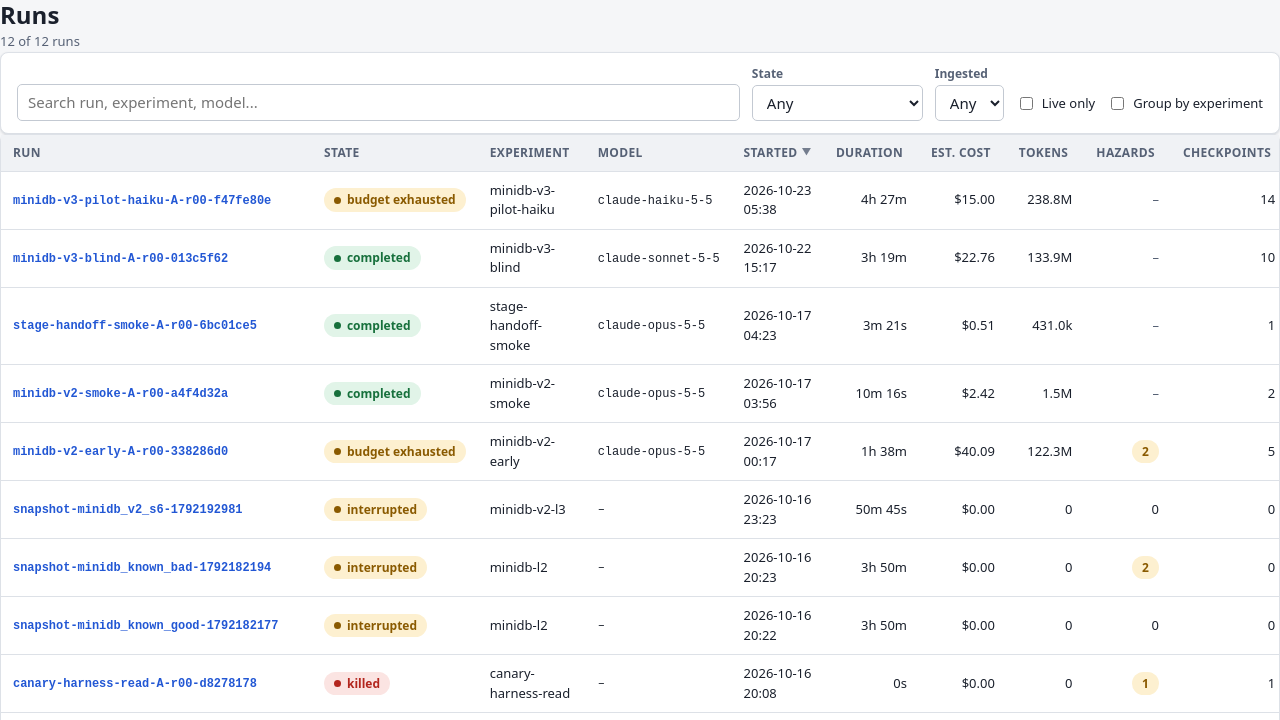
Scenario: RunsView › groups by experiment
Expected: the text "12 of 12 runs" is shown, left=0, top=32, right=80, bottom=52
Step 1. Click the checkbox labelled "Group by experiment" → coordinates (1118, 104), box left=1111, top=97, right=1124, bottom=110
(page scrolled)
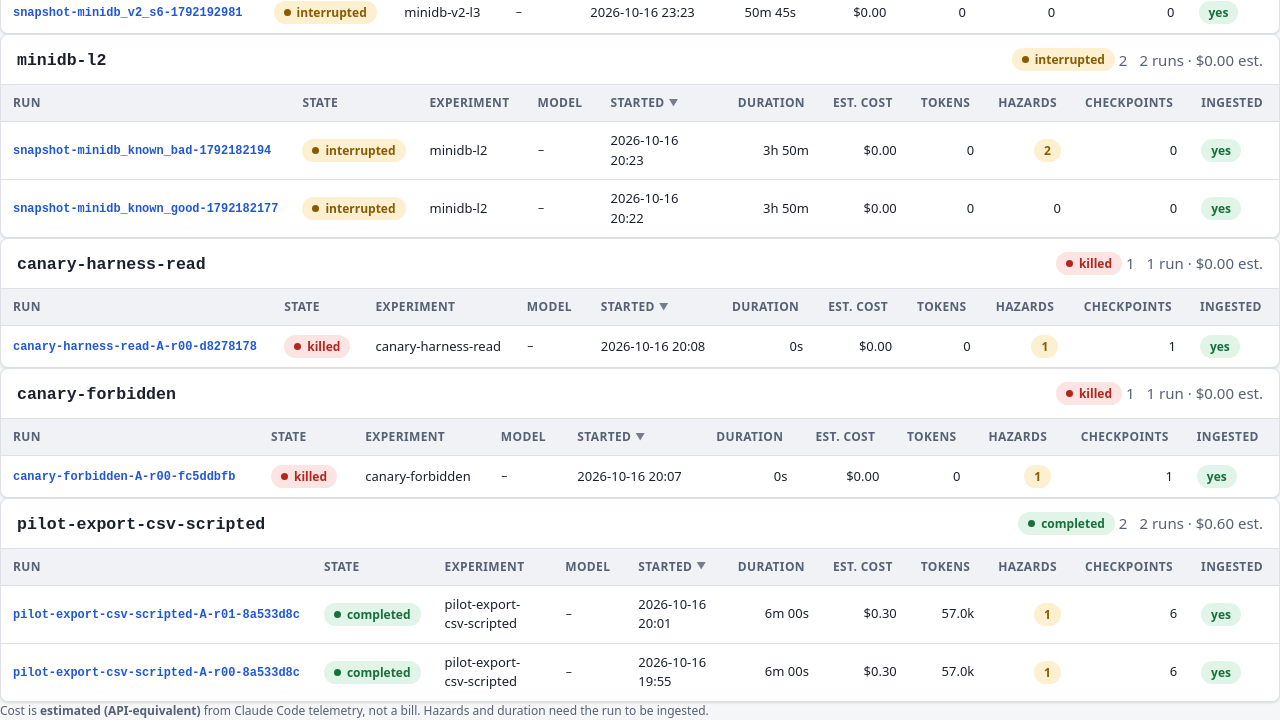
Expected: the heading "pilot-export-csv-scripted" is shown, left=17, top=511, right=265, bottom=536
